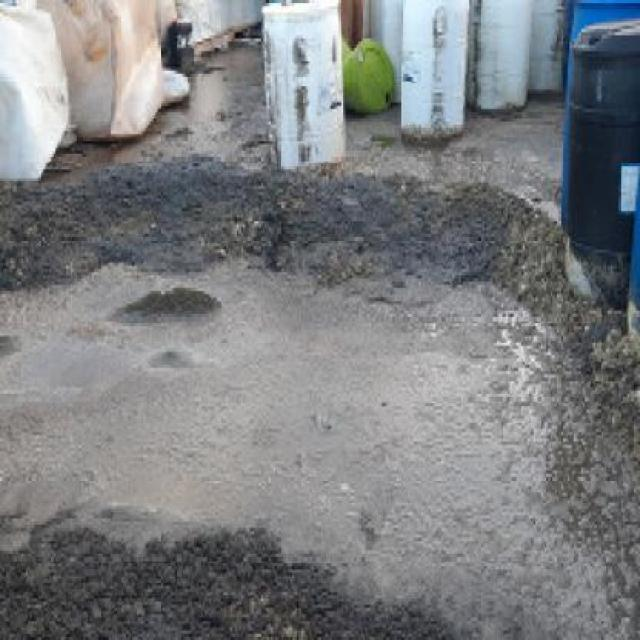spillage: (0, 269, 640, 640)
